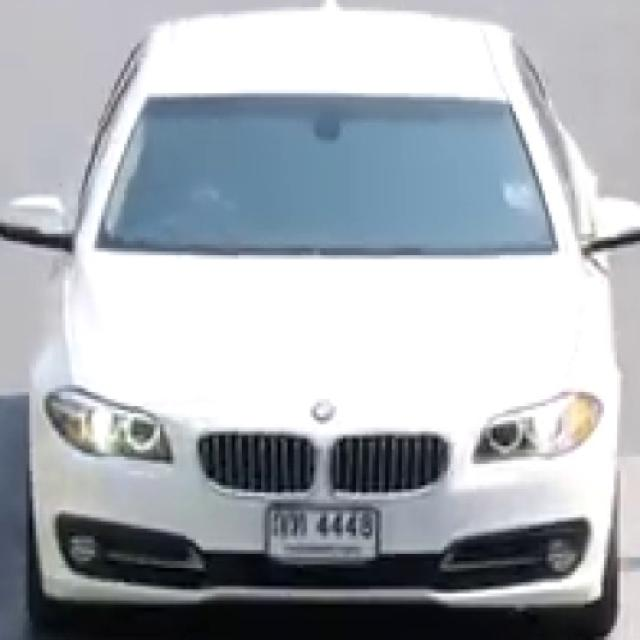plate: (263, 503, 383, 563)
